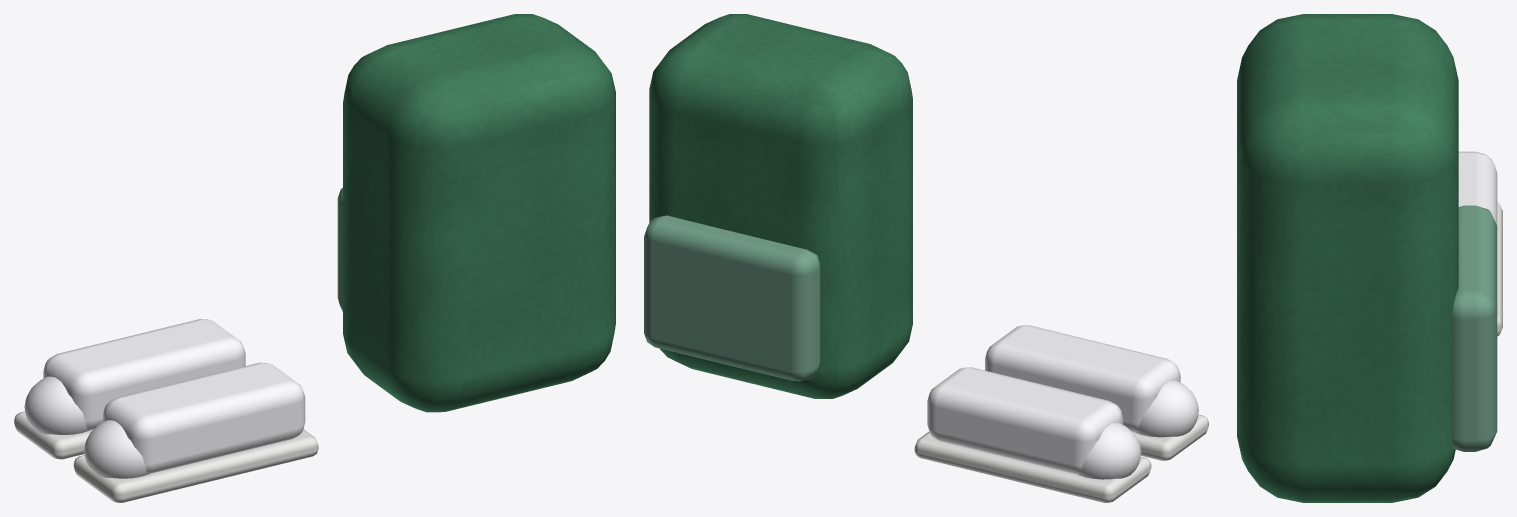
File: escena.casa.cosas_companero.fbx
3 views of the same model, side by side, from view 1: azimuth 30°, elevation 25°; view 2: azimuth 150°, elevation 25°; view 3: azimuth 270°, elevation 25° (orthographic). The views are drawn at different scales.
Visible parts, largest first — view 1: Mochila, Zapatilla, Zapatilla.001, Suela, Puntera, Puntera.001, Suela.001, Bolsillo; view 2: Mochila, Bolsillo, Zapatilla.001, Zapatilla, Suela.001, Puntera.001, Puntera, Suela; view 3: Mochila, Bolsillo, Zapatilla.001, Suela.001.
Part boxes in pixels (x1=…): Mochila: x1=343, y1=14, x2=615, y2=412; Zapatilla: x1=103, y1=362, x2=305, y2=473; Zapatilla.001: x1=43, y1=319, x2=245, y2=429; Suela: x1=73, y1=429, x2=318, y2=502; Puntera: x1=84, y1=420, x2=149, y2=478; Puntera.001: x1=24, y1=376, x2=90, y2=434; Suela.001: x1=14, y1=411, x2=92, y2=459; Bolsillo: x1=337, y1=188, x2=342, y2=311; Mochila: x1=649, y1=14, x2=912, y2=398; Bolsillo: x1=644, y1=215, x2=820, y2=381; Zapatilla.001: x1=927, y1=367, x2=1123, y2=474; Zapatilla: x1=985, y1=325, x2=1180, y2=432; Suela.001: x1=914, y1=431, x2=1151, y2=502; Puntera.001: x1=1077, y1=423, x2=1141, y2=479; Puntera: x1=1135, y1=380, x2=1198, y2=437; Suela: x1=1132, y1=414, x2=1208, y2=460; Mochila: x1=1237, y1=14, x2=1458, y2=502; Bolsillo: x1=1451, y1=205, x2=1497, y2=451; Zapatilla.001: x1=1458, y1=151, x2=1497, y2=225; Suela.001: x1=1497, y1=202, x2=1502, y2=336.
Size of the model in its own units: 0.655 by 0.4 by 0.24.
4 materials, 1 textured.
